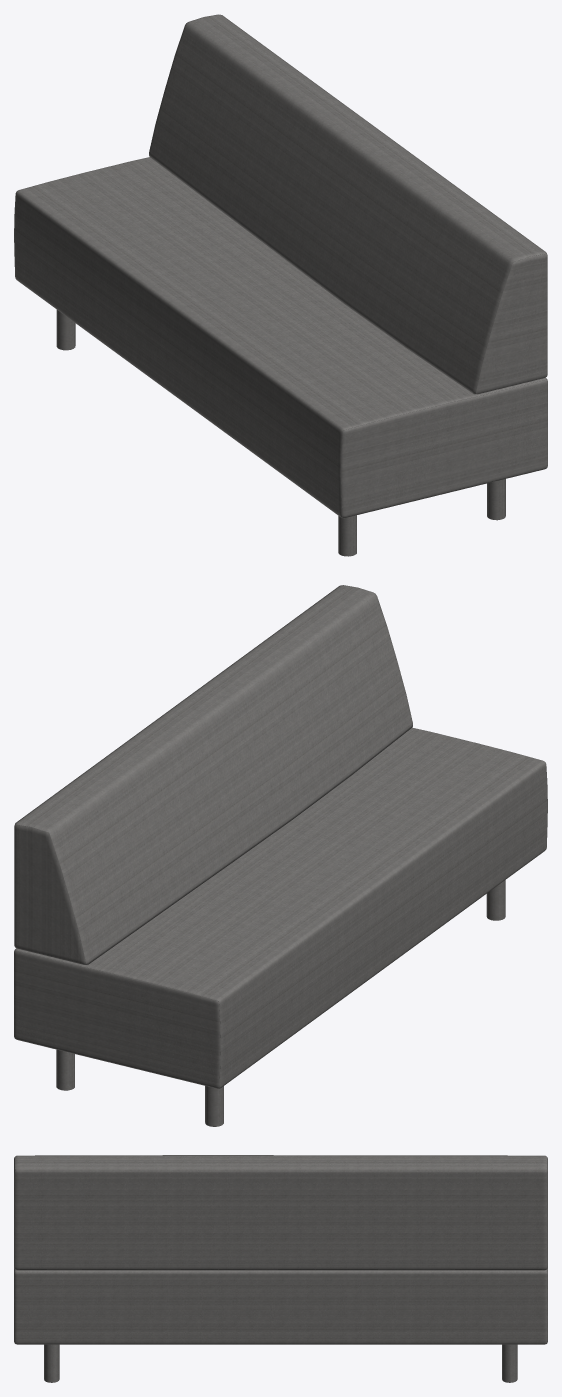
File: Sopha.glb
3 views of the same model, one above another, from view 1: azimuth 30°, elevation 25°; view 2: azimuth 150°, elevation 25°; view 3: azimuth 270°, elevation 25° (orthographic). The views are drawn at different scales.
Visible parts, largest first — view 1: SophaFabric, SophaLegs; view 2: SophaFabric, SophaLegs; view 3: SophaFabric, SophaLegs.
Part boxes in pixels (x1=…): SophaFabric: x1=14, y1=14, x2=547, y2=518; SophaLegs: x1=56, y1=310, x2=505, y2=556; SophaFabric: x1=14, y1=585, x2=547, y2=1088; SophaLegs: x1=56, y1=880, x2=505, y2=1126; SophaFabric: x1=14, y1=1155, x2=547, y2=1344; SophaLegs: x1=44, y1=1344, x2=517, y2=1382.
Size of the model in its own units: 0.5067 by 0.6376 by 1.38.
1 material, 1 textured.
